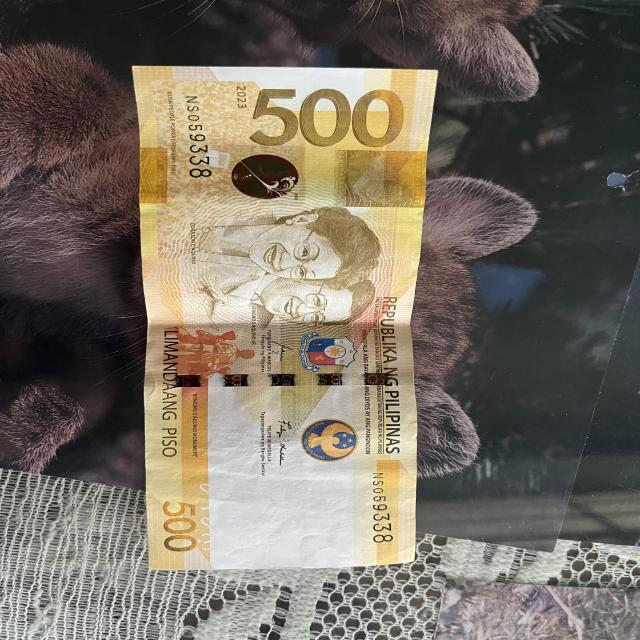concealed_value: (333, 148, 428, 208)
optically_variable_device: (219, 147, 308, 207)
see_through_mark: (193, 476, 231, 561)
serial_number: (181, 88, 222, 180), (364, 468, 397, 548)
